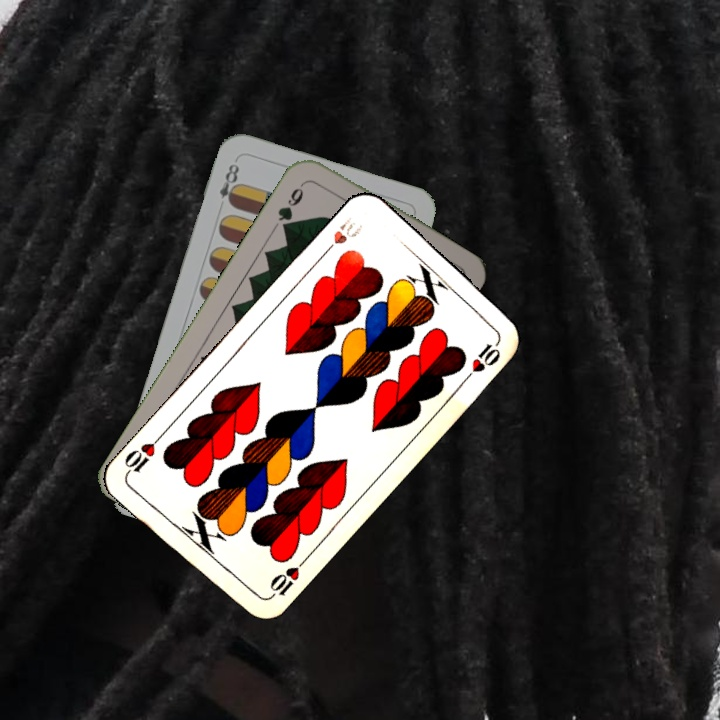E8: (215, 159, 242, 209)
G9: (273, 177, 309, 234)
H10: (317, 212, 365, 260), (264, 555, 309, 602)
